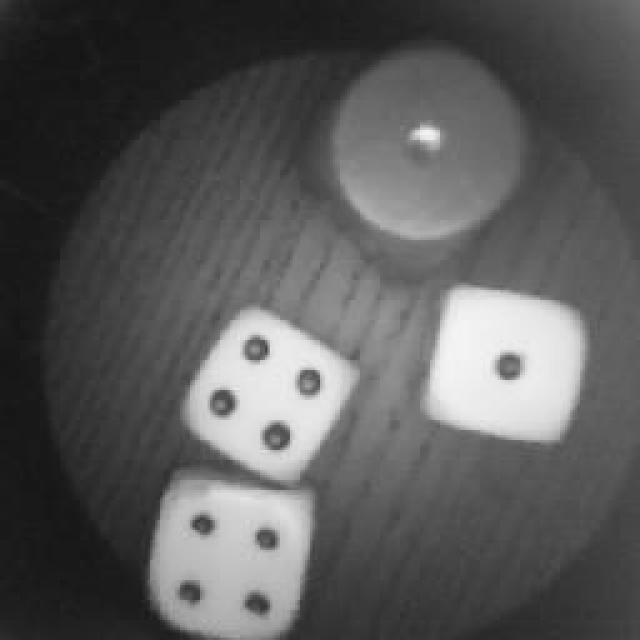dice_1: (315, 28, 543, 282), (430, 277, 585, 445)
dice_4: (142, 470, 318, 640), (190, 308, 352, 480)
